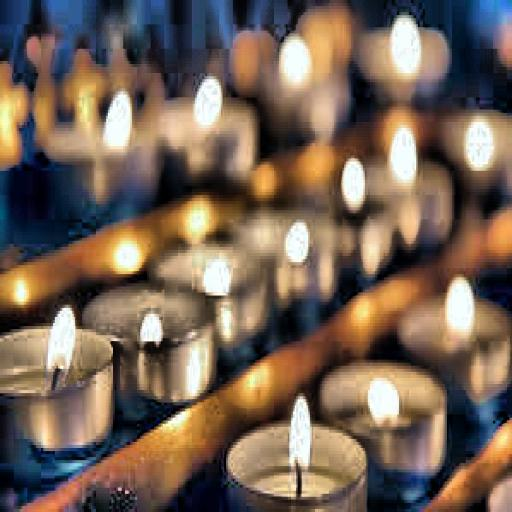fire: (39, 296, 77, 387), (282, 387, 314, 472)
